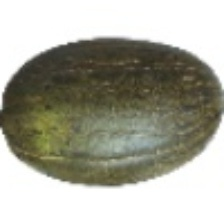honeydew: (23, 0, 224, 200)
